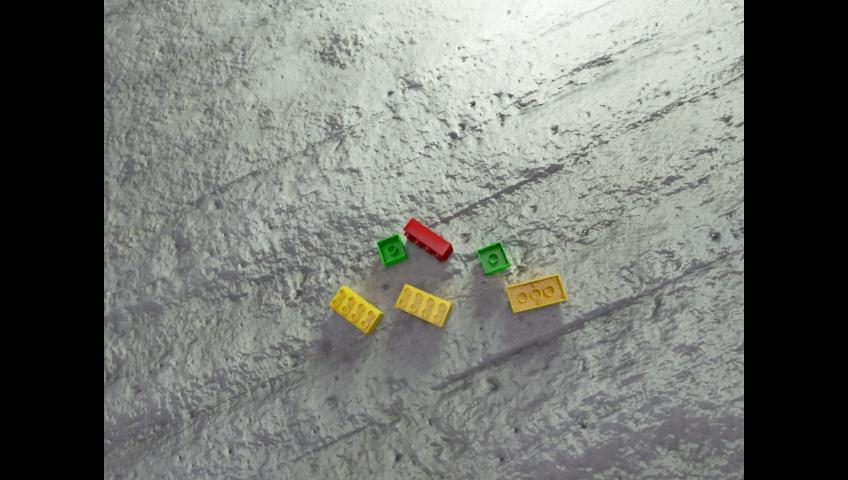2x2_green: (476, 241, 508, 275), (376, 233, 407, 266)
4x2_red: (403, 217, 452, 261)
4x2_yellow: (328, 285, 383, 334), (395, 283, 451, 327), (507, 274, 567, 314)
